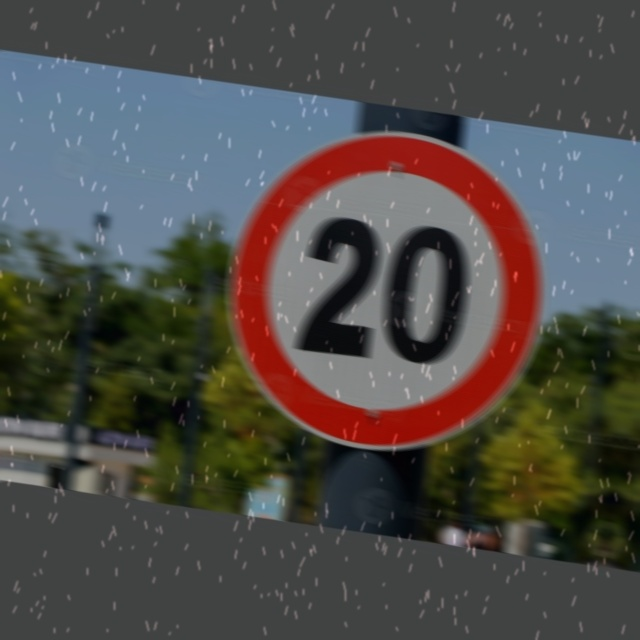Speed_Limit_20: (215, 107, 558, 456)
